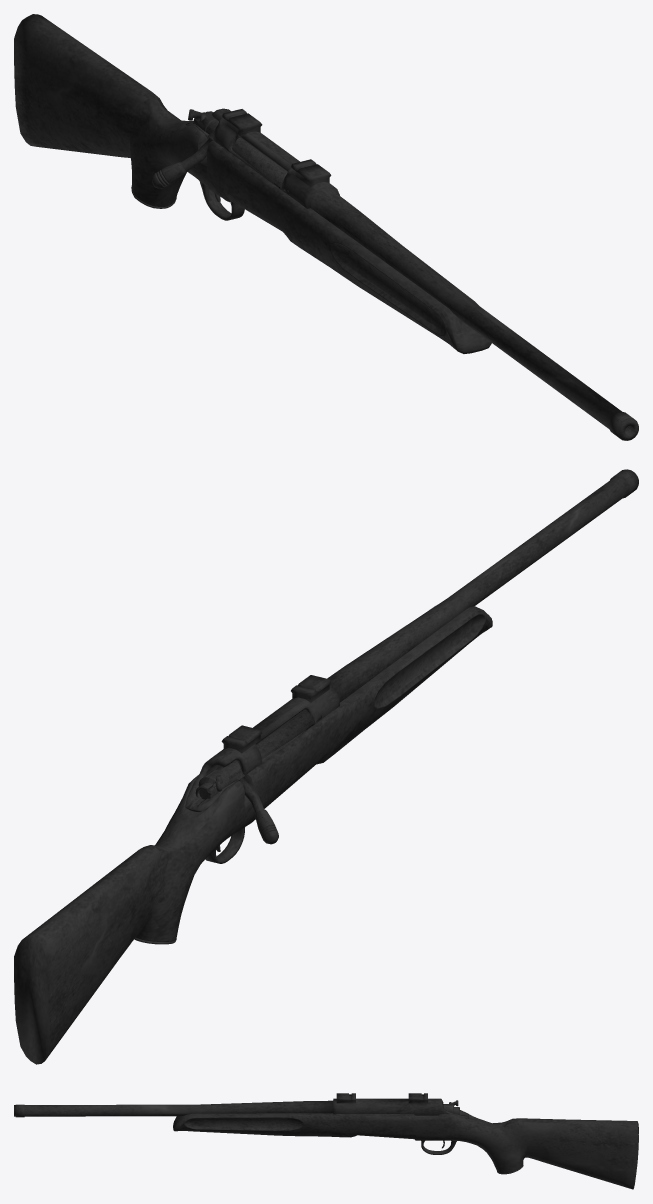
The model's file is tccompass.fbx.
The picture shows the model from 3 angles, top to bottom: view 1: azimuth 30°, elevation 25°; view 2: azimuth 150°, elevation 25°; view 3: azimuth 270°, elevation 25°; orthographic projection. The views are drawn at different scales.
Visible parts, largest first — view 1: Low_Poly_Low-poly_Cube.005, Low_Poly_Low-poly_Cube.008; view 2: Low_Poly_Low-poly_Cube.005, Low_Poly_Low-poly_Cube.008; view 3: Low_Poly_Low-poly_Cube.005, Low_Poly_Low-poly_Cube.008.
Part boxes in pixels (box(x1,y1,x2,y2)): Low_Poly_Low-poly_Cube.005: box(14, 14, 638, 440); Low_Poly_Low-poly_Cube.008: box(152, 109, 288, 193); Low_Poly_Low-poly_Cube.005: box(14, 469, 638, 1064); Low_Poly_Low-poly_Cube.008: box(195, 710, 321, 844); Low_Poly_Low-poly_Cube.005: box(14, 1093, 638, 1189); Low_Poly_Low-poly_Cube.008: box(443, 1100, 459, 1114).
Bounding box in the file's own units: 1.17 × 2.33 × 14.1.
